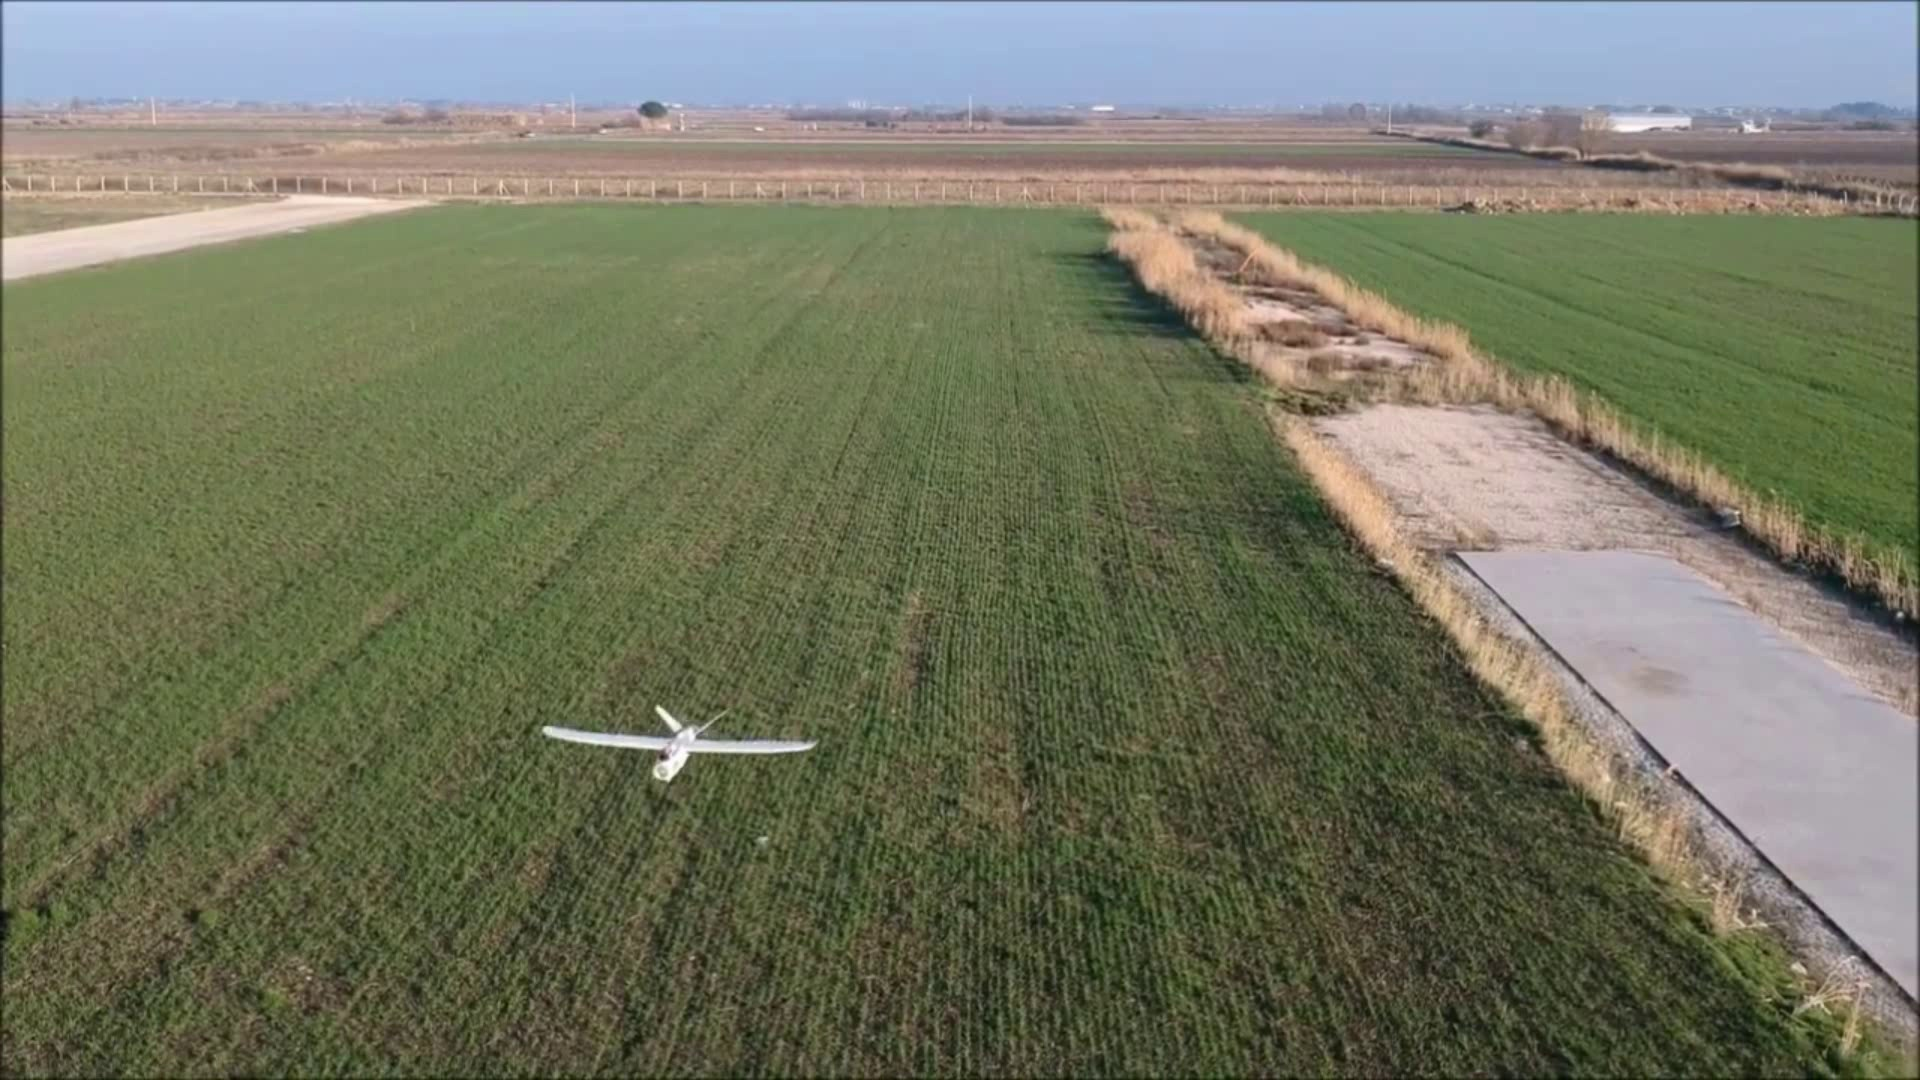airplane: (537, 711, 818, 782)
